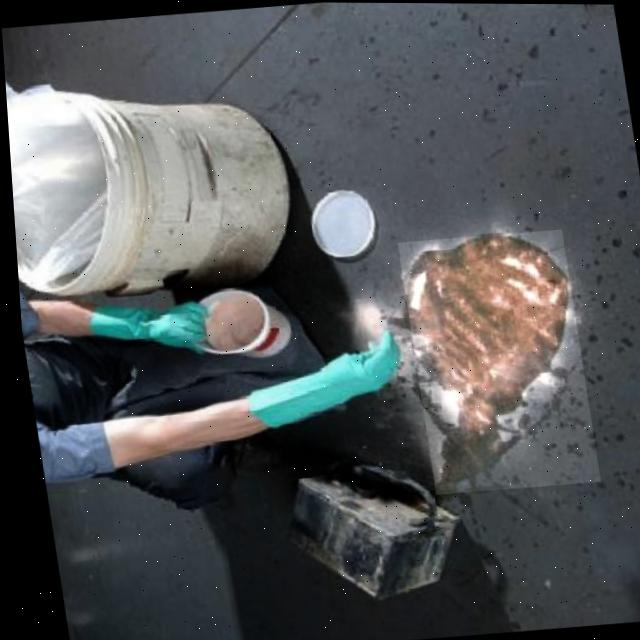spillage: (404, 232, 567, 490)
